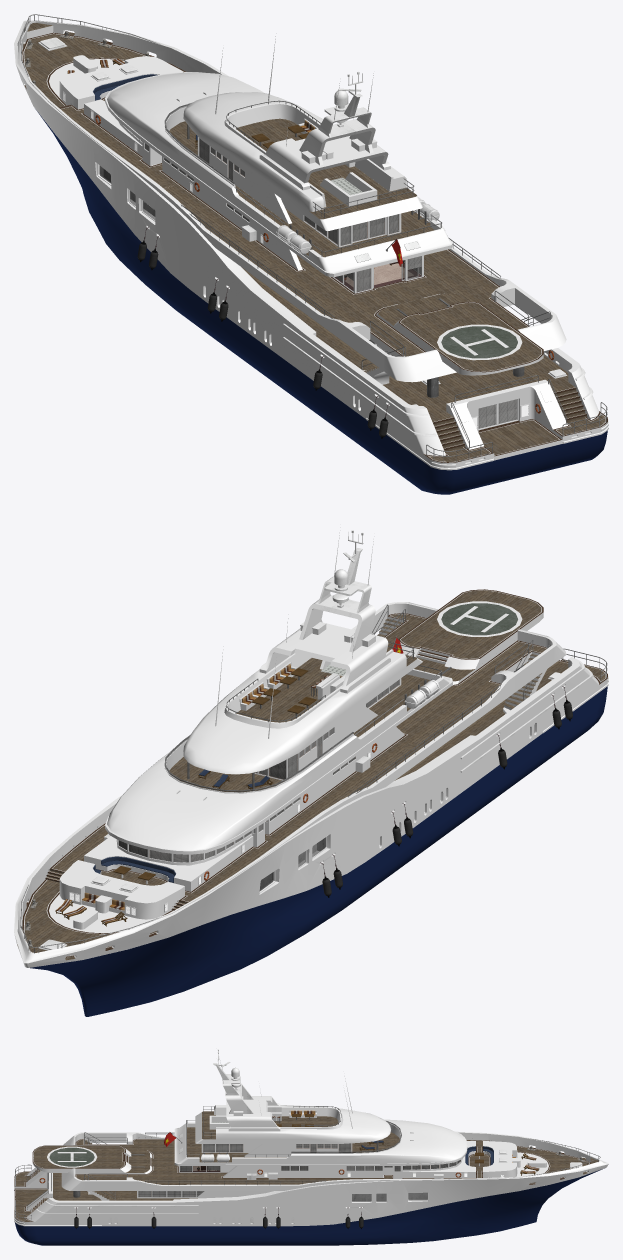
The model's file is yacht.glb.
3 views of the same model, one above another, from view 1: azimuth 30°, elevation 25°; view 2: azimuth 150°, elevation 25°; view 3: azimuth 270°, elevation 25° (orthographic). The views are drawn at different scales.
Visible parts, largest first — view 1: Object_7, Object_11, Object_15, Object_6, Object_13, Object_50, Object_9, Object_64, Object_52, Object_56, Object_42; view 2: Object_7, Object_15, Object_11, Object_6, Object_13, Object_50, Object_9, Object_64, Object_52, Object_88, Object_68, Object_56 (+1 smaller); view 3: Object_7, Object_15, Object_11, Object_6, Object_9, Object_13, Object_64, Object_50, Object_52, Object_88, Object_56.
Boxes of the visible parts, x1,y1,x2,y2 form: Object_7: (14, 20, 608, 470); Object_11: (23, 23, 605, 461); Object_15: (35, 109, 607, 494); Object_6: (38, 33, 608, 466); Object_13: (20, 14, 607, 462); Object_50: (22, 32, 607, 462); Object_9: (99, 105, 516, 428); Object_64: (141, 138, 516, 428); Object_52: (441, 326, 517, 358); Object_56: (137, 243, 388, 436); Object_42: (179, 154, 413, 286); Object_7: (14, 602, 608, 967); Object_15: (30, 686, 607, 1016); Object_11: (17, 590, 605, 960); Object_6: (38, 527, 608, 950); Object_13: (20, 604, 607, 953); Object_50: (22, 589, 607, 957); Object_9: (118, 680, 398, 890); Object_64: (119, 672, 398, 862); Object_52: (441, 603, 517, 635); Object_88: (55, 668, 316, 926); Object_68: (56, 664, 328, 922); Object_56: (322, 702, 572, 895); Object_7: (14, 1096, 608, 1226); Object_15: (15, 1168, 604, 1245); Object_11: (16, 1111, 598, 1221); Object_6: (14, 1049, 582, 1224); Object_9: (138, 1122, 460, 1201); Object_13: (15, 1106, 600, 1221); Object_64: (138, 1143, 460, 1197); Object_50: (14, 1139, 590, 1221); Object_52: (49, 1147, 94, 1166); Object_88: (276, 1114, 539, 1175); Object_56: (74, 1218, 363, 1227).
Bounding box in the file's own units: 0.4383 × 0.6301 × 1.98.
Materials: 44 (39 with a texture image).
